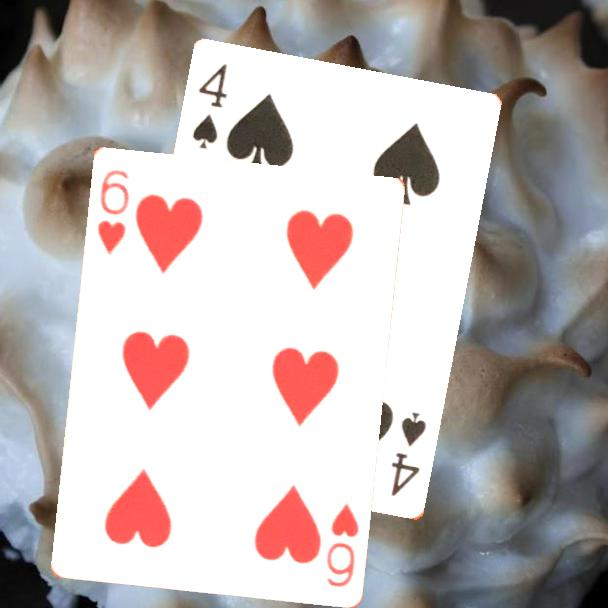h06: (93, 165, 132, 257), (322, 499, 361, 590)
s04: (388, 408, 430, 500), (189, 61, 231, 153)
